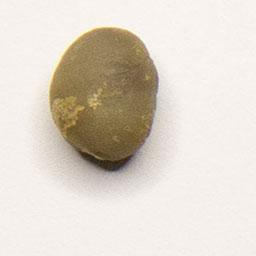peaberry: (47, 23, 162, 166)
